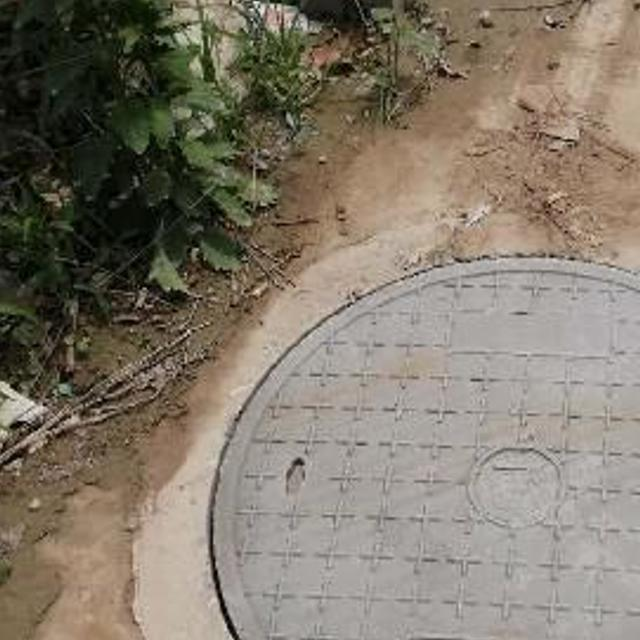good: (102, 215, 640, 640)
